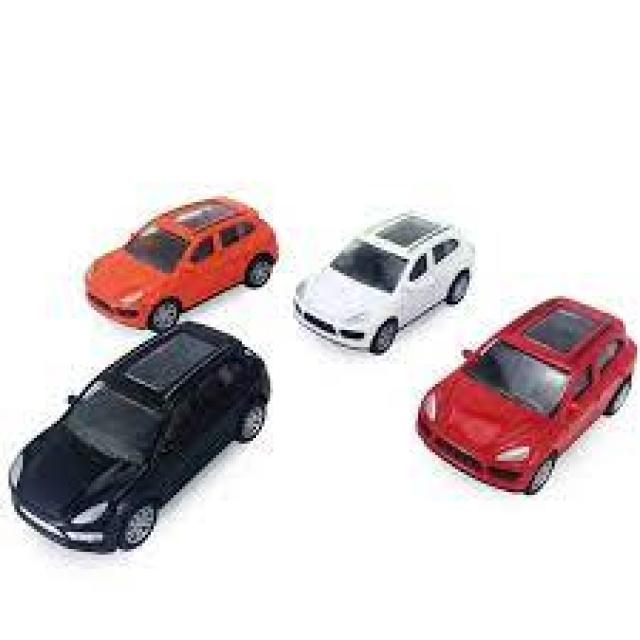Car: (6, 318, 270, 552), (415, 293, 637, 495), (82, 193, 279, 333), (290, 208, 475, 352)
